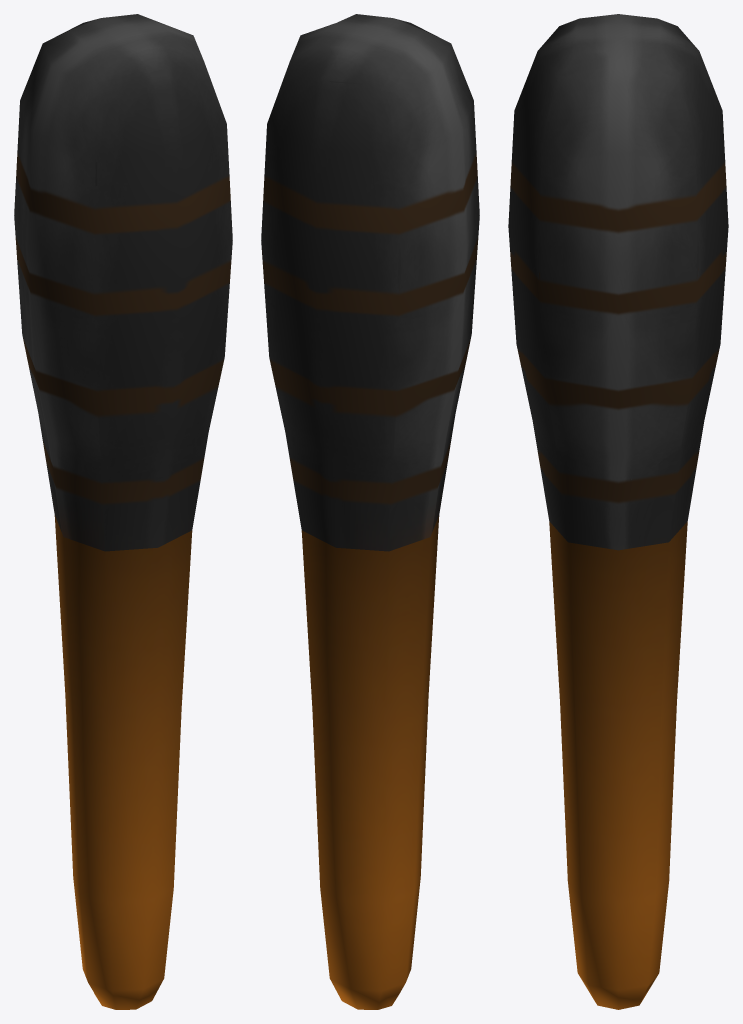
Rendered from torch.glb.
3 views of the same model, side by side, from view 1: azimuth 30°, elevation 25°; view 2: azimuth 150°, elevation 25°; view 3: azimuth 270°, elevation 25° (orthographic).
Visible parts, largest first — view 1: Cube; view 2: Cube; view 3: Cube.
Part boxes in pixels (x1,y1,x2,y2): Cube: [14, 14, 232, 1009]; Cube: [261, 14, 479, 1009]; Cube: [508, 14, 728, 1009].
Bounding box in the file's own units: 0.0665 × 0.3255 × 0.0665.
2 materials, 2 textured.
